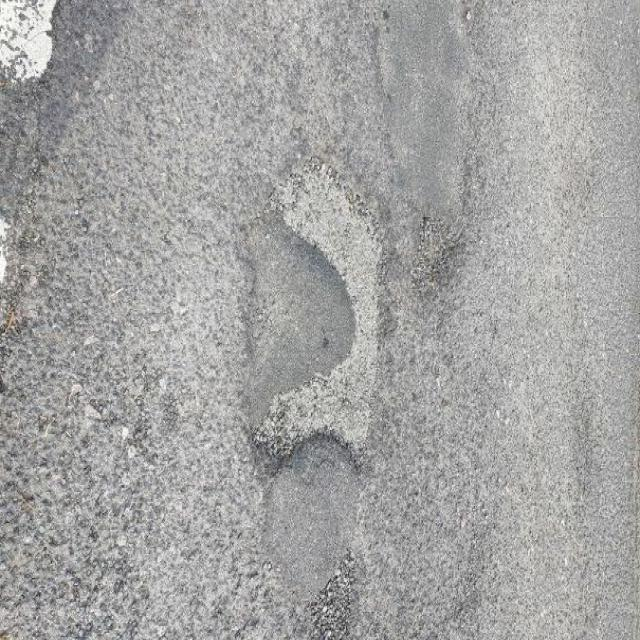Pothole: (244, 142, 399, 481)
